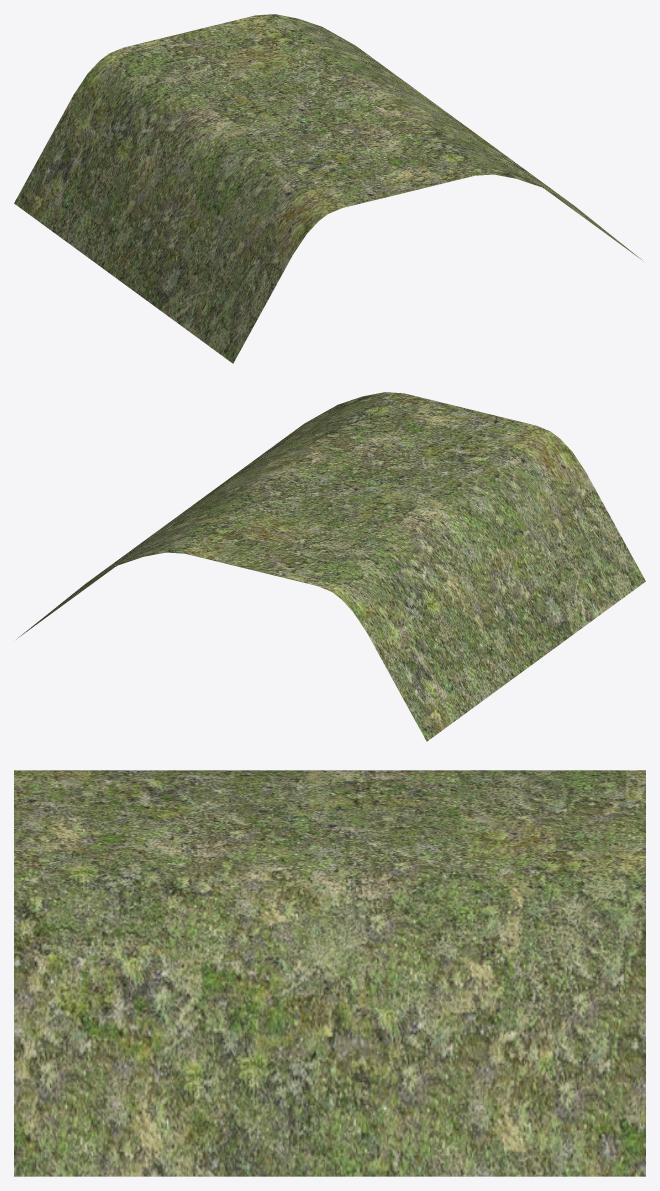
The model's file is eSK_embankment_grass2.FBX.
3 views of the same model, one above another, from view 1: azimuth 30°, elevation 25°; view 2: azimuth 150°, elevation 25°; view 3: azimuth 270°, elevation 25° (orthographic). The views are drawn at different scales.
Visible parts, largest first — view 1: Object1; view 2: Object1; view 3: Object1.
Boxes of the visible parts, bbox=[...] form: Object1: bbox=[14, 14, 643, 363]; Object1: bbox=[16, 392, 645, 741]; Object1: bbox=[14, 770, 645, 1176].
Size of the model in its own units: 4.35 by 1.3 by 4.
1 material, 1 textured.
